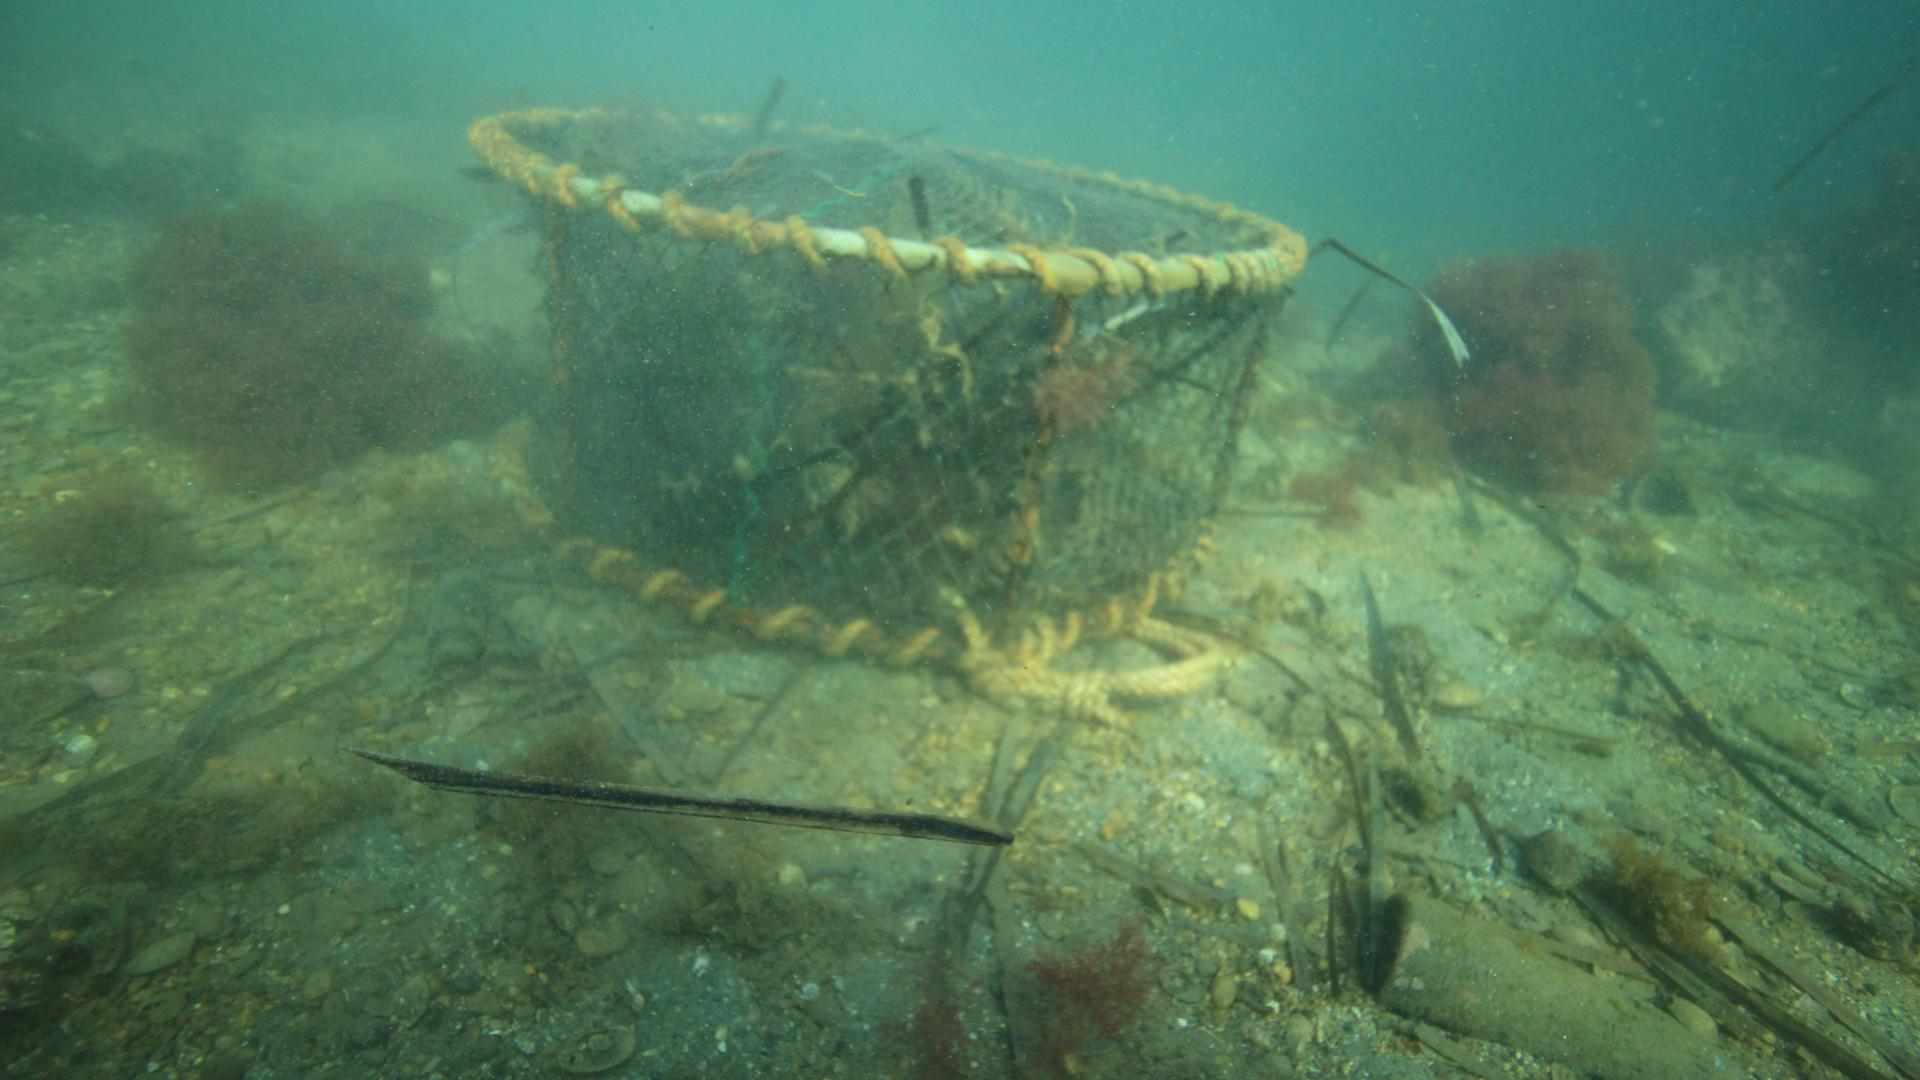bundle of ropes: (972, 616, 1222, 709)
circular fish trap: (465, 103, 1309, 666)
